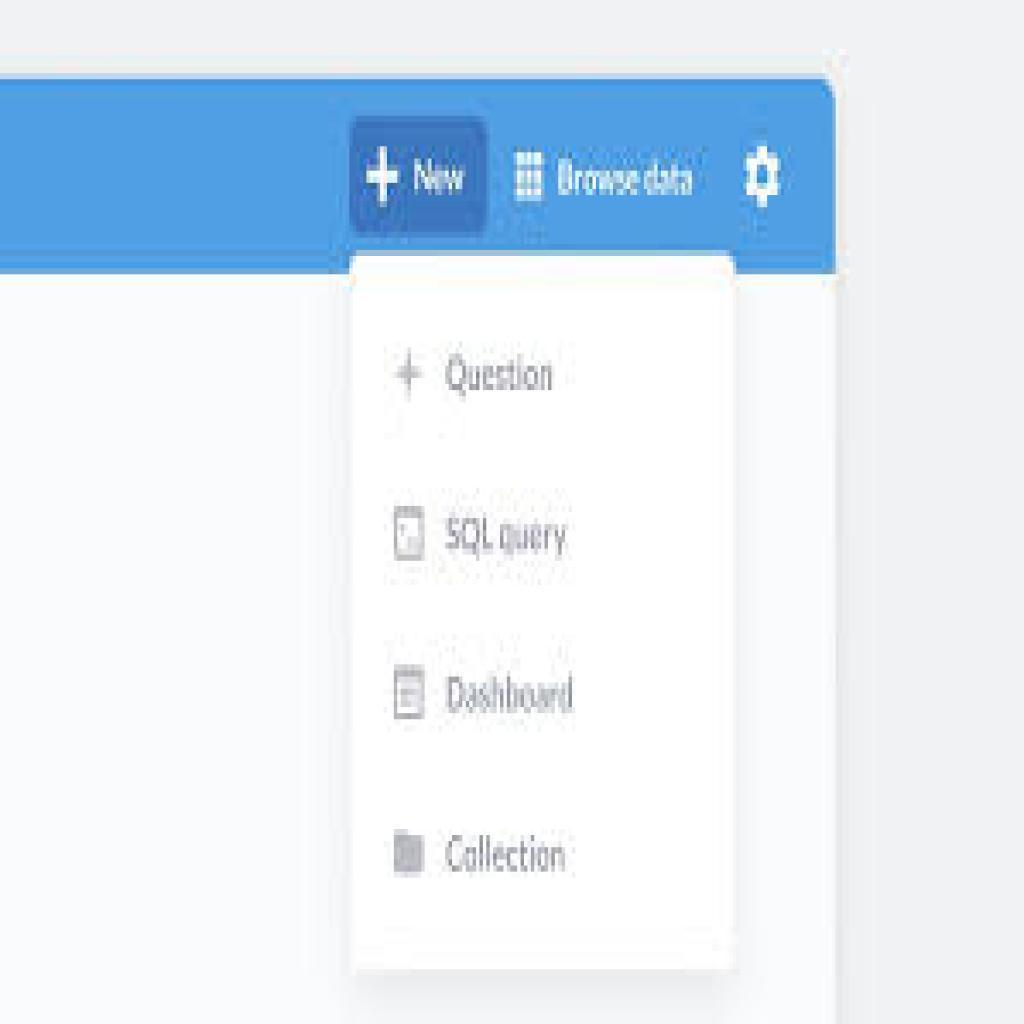icon: (735, 121, 793, 227), (389, 496, 432, 574), (387, 815, 432, 889), (389, 335, 431, 414), (389, 665, 428, 734)
label: (443, 507, 572, 566), (446, 671, 584, 718), (446, 349, 562, 404), (446, 833, 570, 884)
